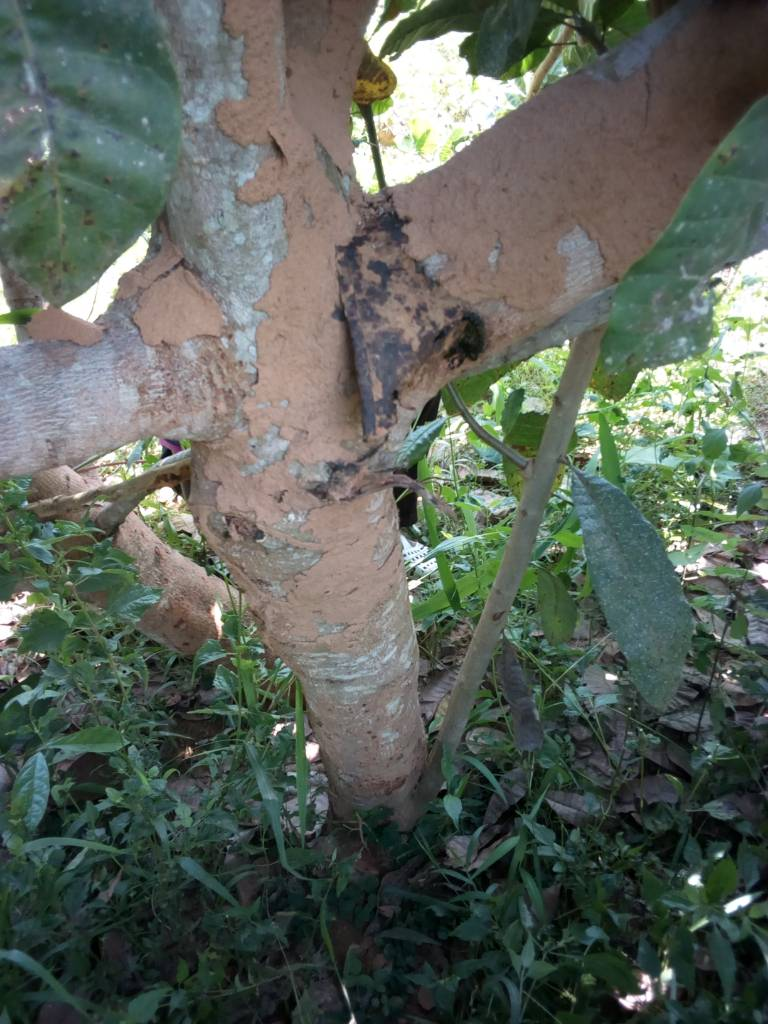Termites: (250, 36, 446, 452), (446, 41, 741, 282), (249, 497, 422, 685), (122, 260, 229, 346)
